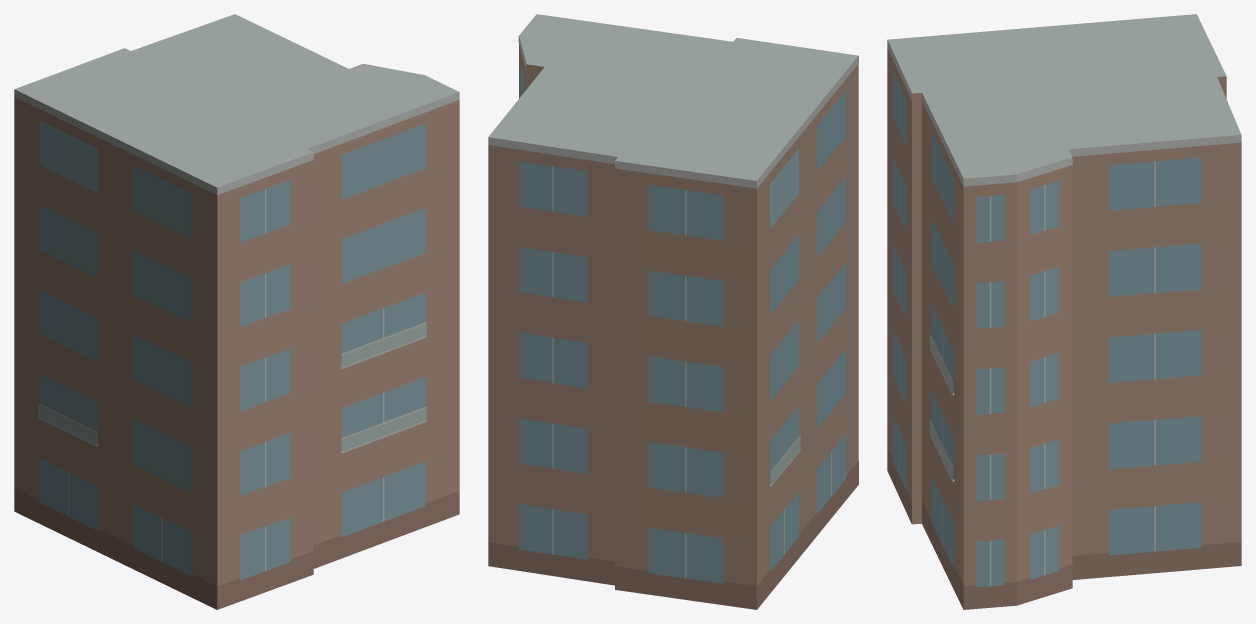
File: survey-upis-32918214.glb
3 renders of one model, left to right at view 1: azimuth 30°, elevation 25°; view 2: azimuth 150°, elevation 25°; view 3: azimuth 270°, elevation 25°, orthographic. The views are drawn at different scales.
Parts seen in each view (by area): view 1: survey-upis-32918214.tmp; view 2: survey-upis-32918214.tmp; view 3: survey-upis-32918214.tmp.
Boxes of the visible parts, x1,y1,x2,y2 form: survey-upis-32918214.tmp: (14, 14, 459, 609); survey-upis-32918214.tmp: (488, 14, 858, 609); survey-upis-32918214.tmp: (887, 14, 1241, 609).
Size of the model in its own units: 11.17 by 13.6 by 10.14.
